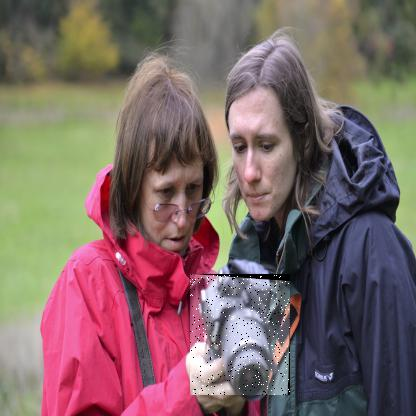Camera: (191, 275, 292, 397)
